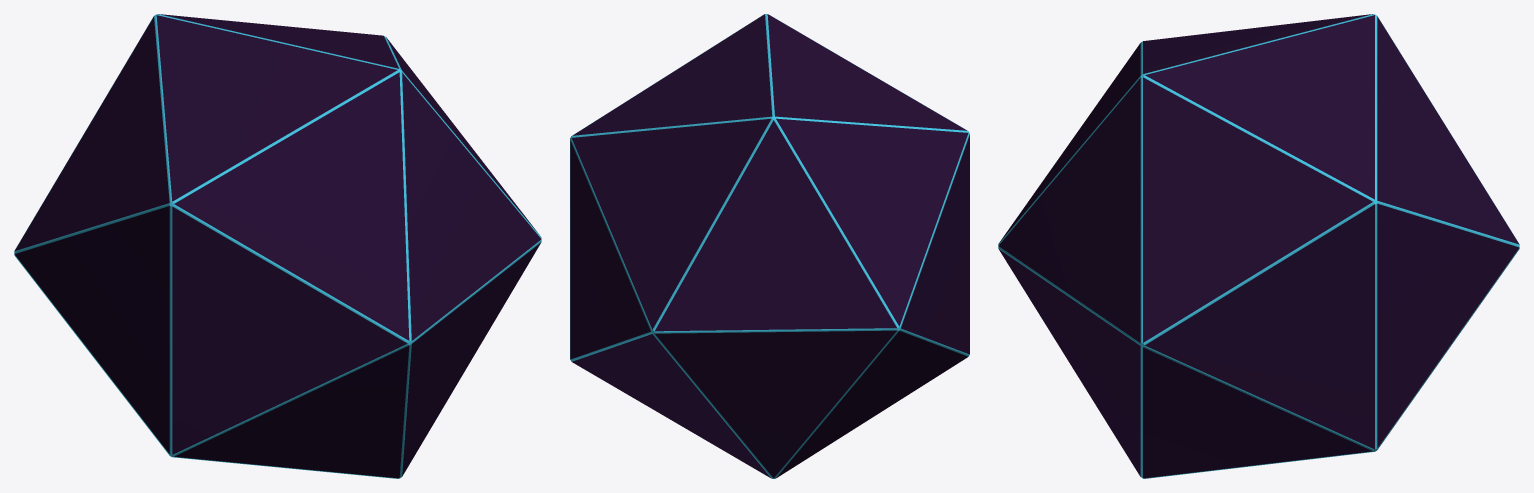
3 renders of one model, left to right at view 1: azimuth 30°, elevation 25°; view 2: azimuth 150°, elevation 25°; view 3: azimuth 270°, elevation 25°, orthographic. The views are drawn at different scales.
Parts seen in each view (by area): view 1: pPlatonic1; view 2: pPlatonic1; view 3: pPlatonic1.
Boxes of the visible parts, bbox=[...] form: pPlatonic1: bbox=[14, 14, 541, 478]; pPlatonic1: bbox=[570, 14, 969, 478]; pPlatonic1: bbox=[998, 14, 1519, 478].
Size of the model in its own units: 3.74 by 3.55 by 4.16.
